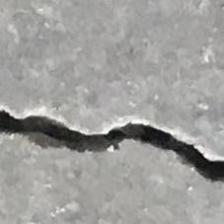Crack: (0, 87, 224, 201)
